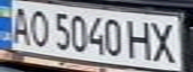0: (103, 16, 127, 57), (66, 11, 87, 53)
4: (84, 14, 109, 56)
5: (48, 9, 72, 52)
A: (6, 2, 33, 46)
H: (124, 17, 157, 61)
O: (24, 7, 51, 47)
X: (145, 18, 181, 64)
